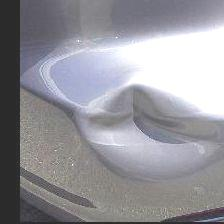bumper_dent: (71, 70, 223, 178)
